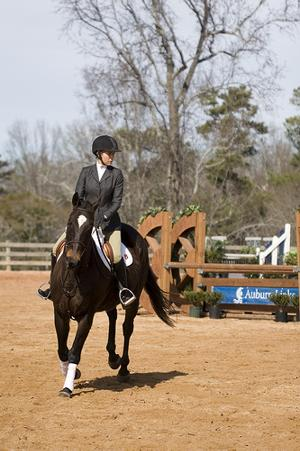person: (38, 135, 127, 304)
